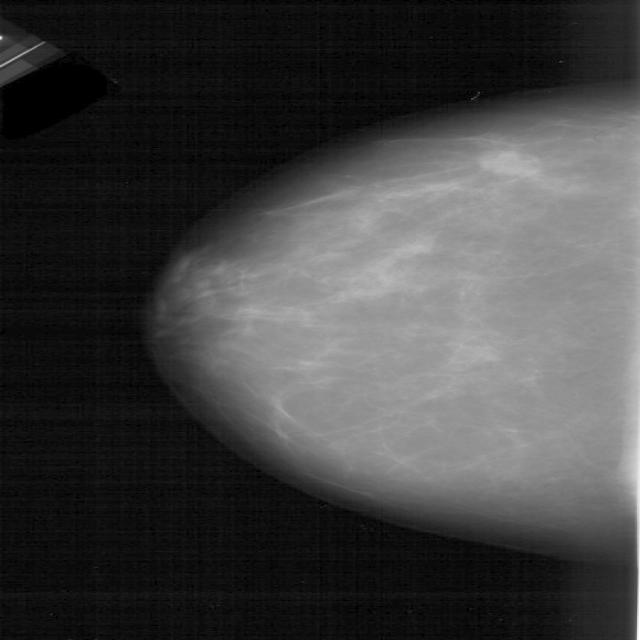tumour: (477, 148, 538, 177)
